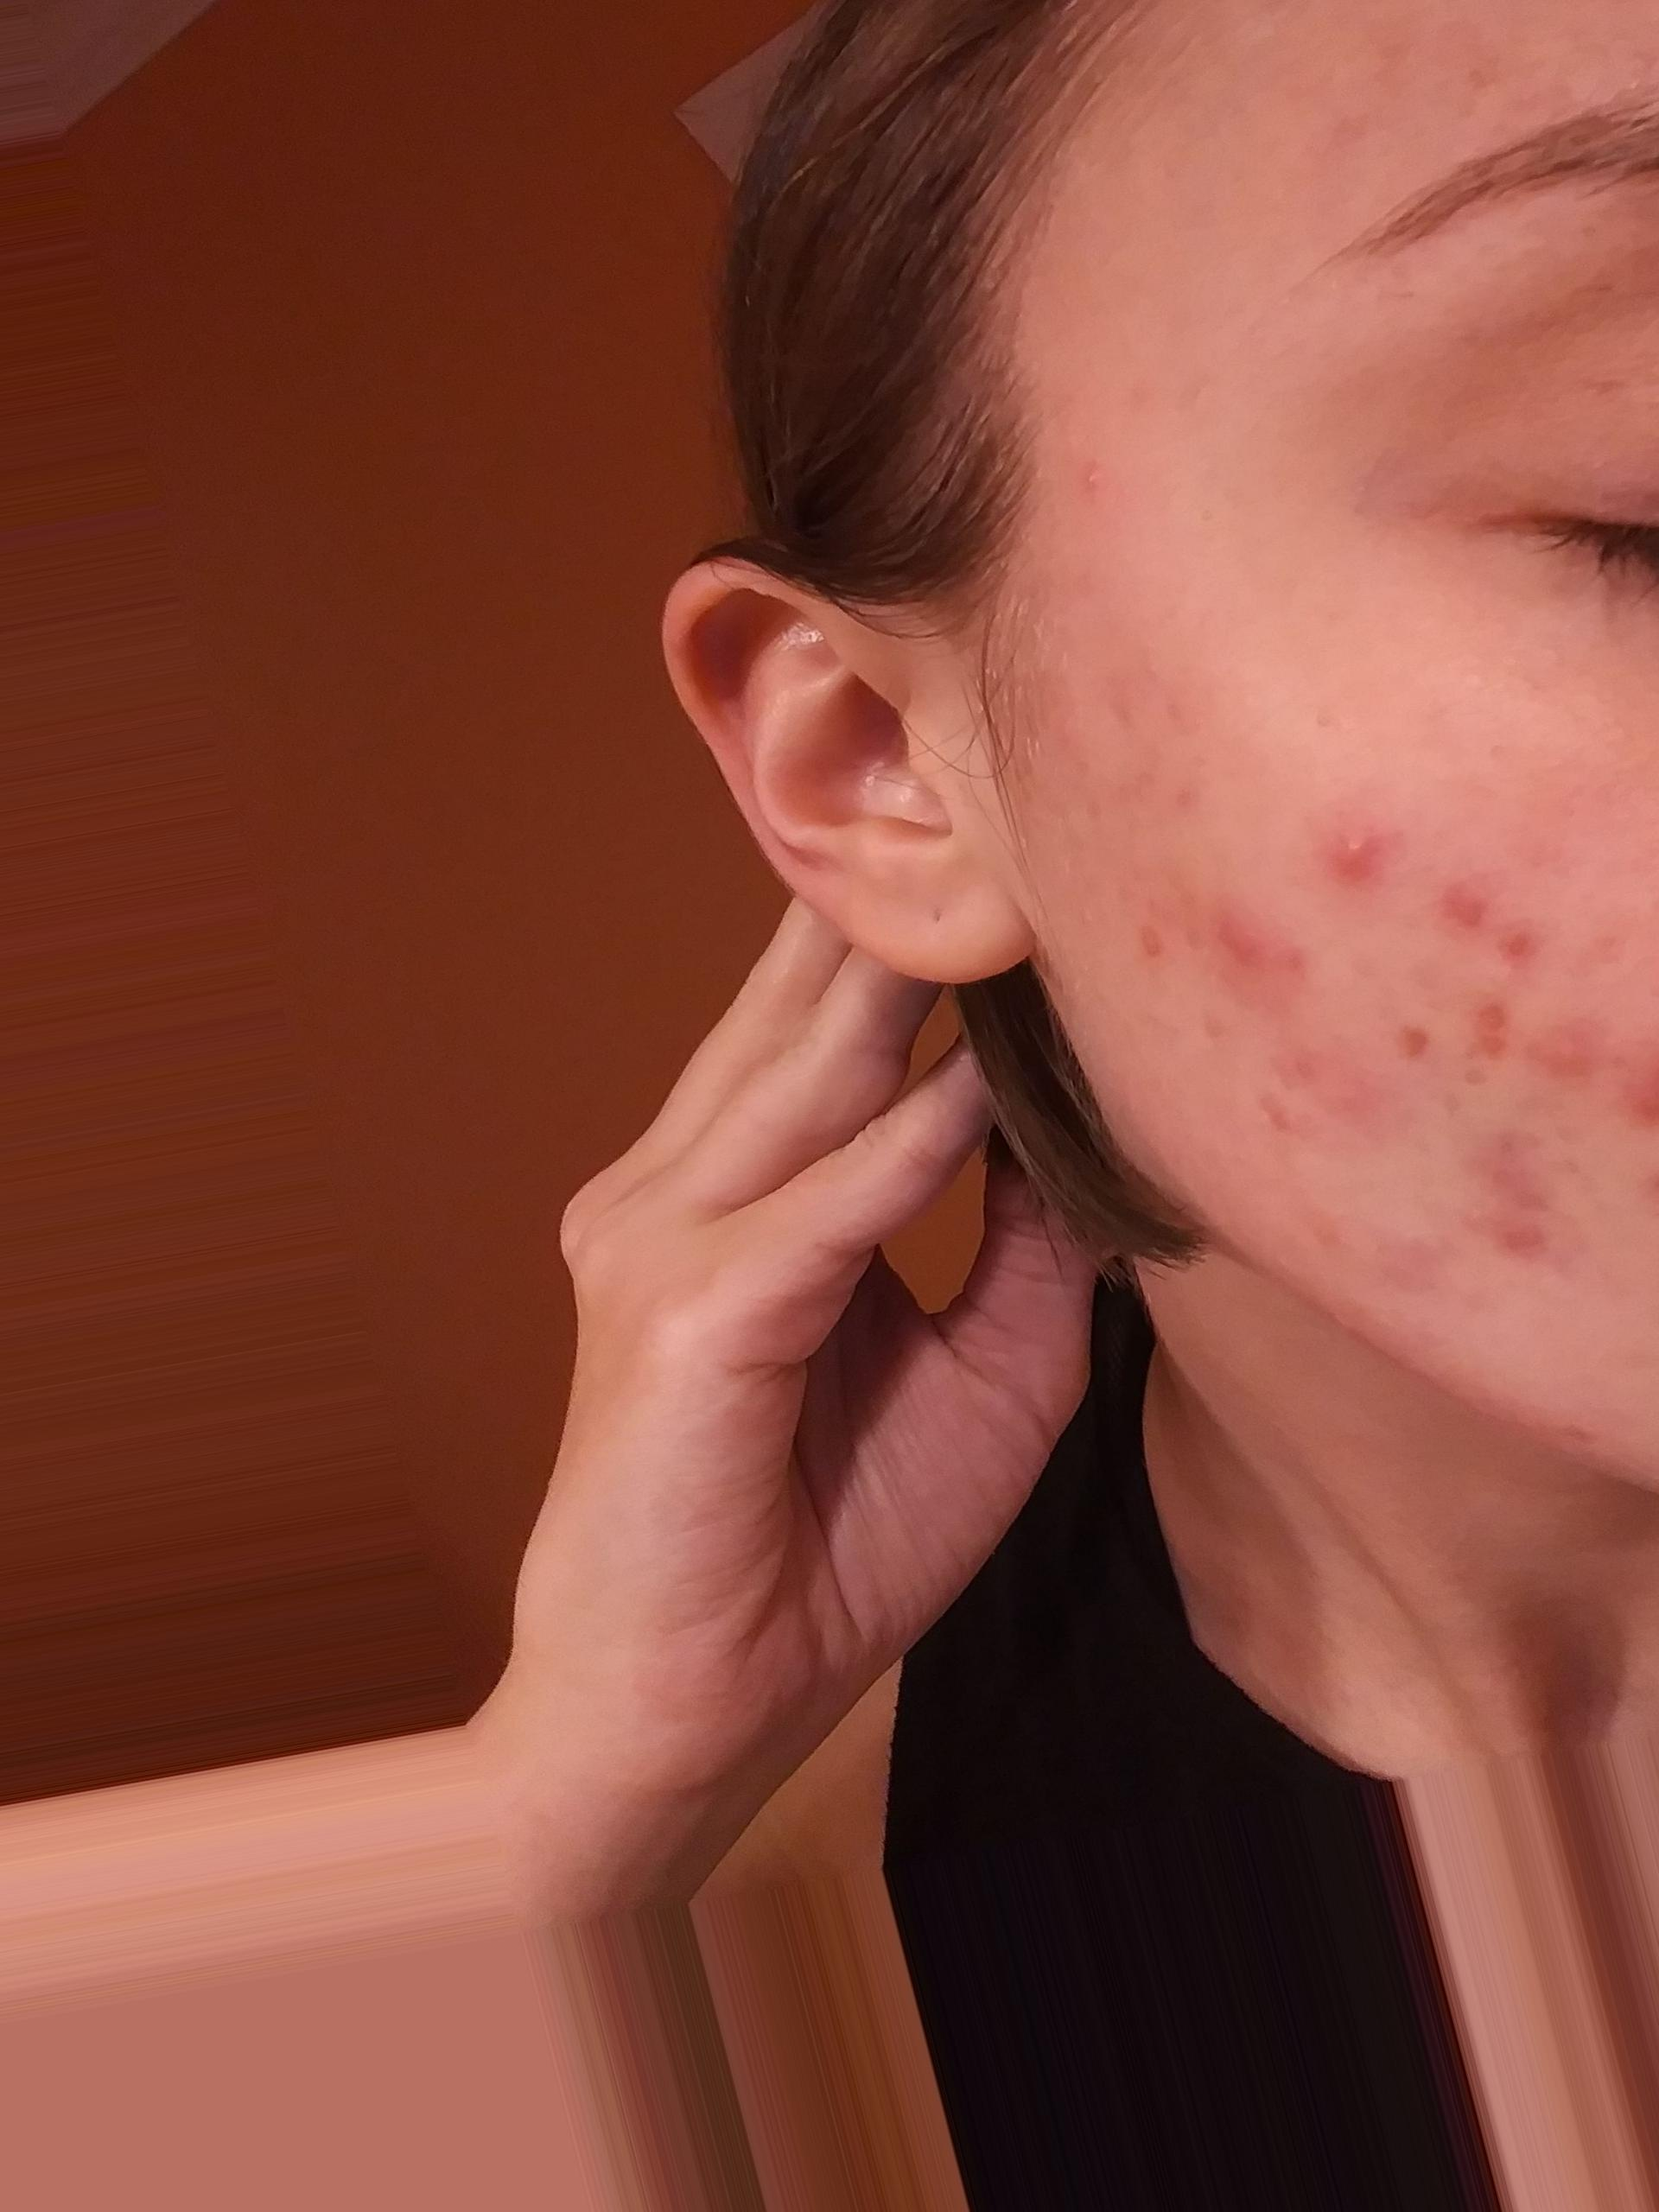Acne: (1446, 862, 1563, 1014), (1469, 1125, 1546, 1271), (1295, 824, 1403, 897)
